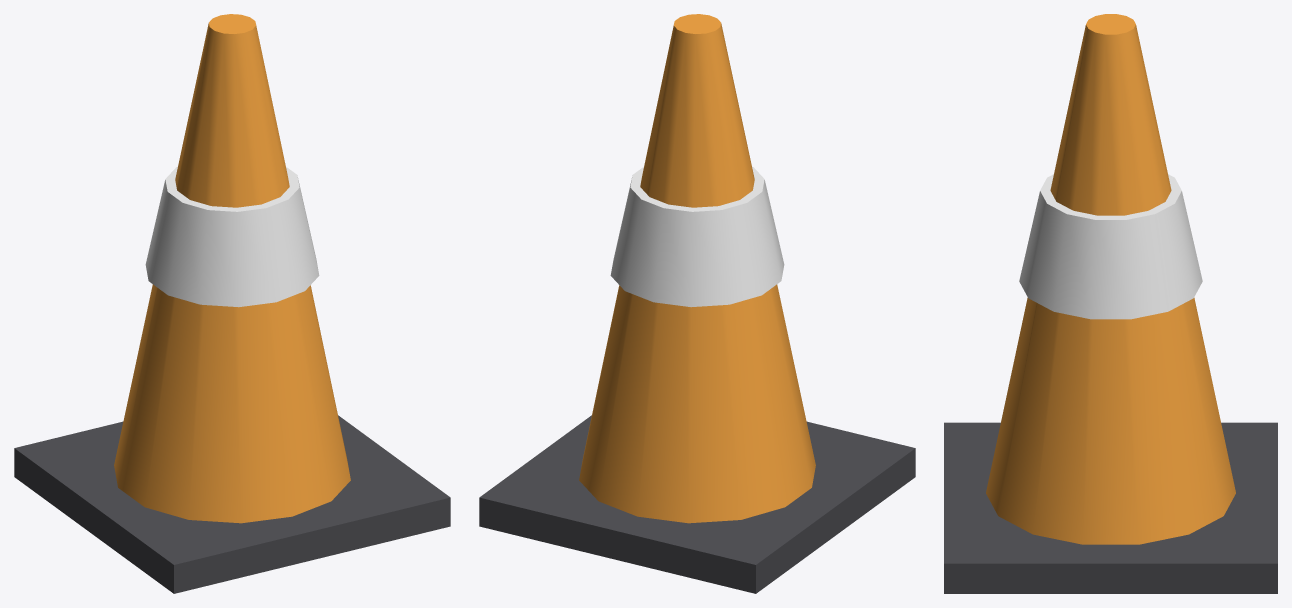
The picture shows the model from 3 angles, left to right: view 1: azimuth 30°, elevation 25°; view 2: azimuth 150°, elevation 25°; view 3: azimuth 270°, elevation 25°; orthographic projection. The views are drawn at different scales.
Visible parts, largest first — view 1: rc_cone; view 2: rc_cone; view 3: rc_cone.
Part boxes in pixels (x1,y1,x2,y2): rc_cone: (14, 14, 450, 593); rc_cone: (479, 14, 915, 593); rc_cone: (944, 14, 1277, 593).
Bounding box in the file's own units: 0.4 × 0.66 × 0.4.
